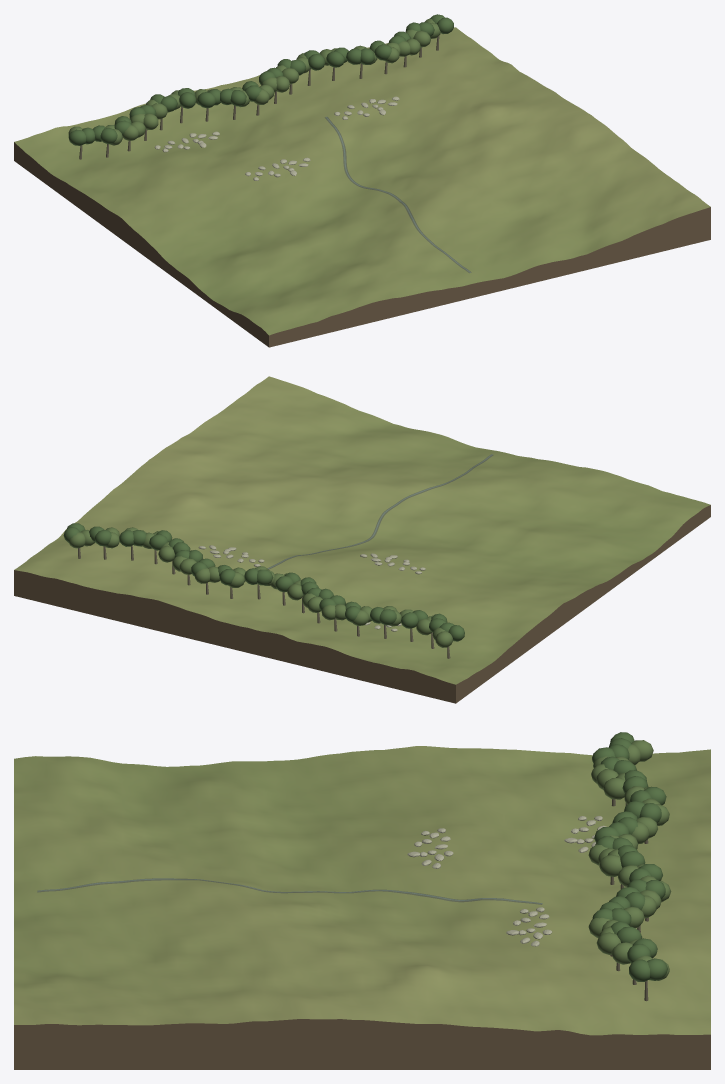
Rendered from gms-04.glb.
3 views of the same model, one above another, from view 1: azimuth 30°, elevation 25°; view 2: azimuth 150°, elevation 25°; view 3: azimuth 270°, elevation 25° (orthographic). The views are drawn at different scales.
Parts seen in each view (by area): view 1: GMS-04 - estudio del paisaje; view 2: GMS-04 - estudio del paisaje; view 3: GMS-04 - estudio del paisaje.
Part boxes in pixels (x1,y1,x2,y2): GMS-04 - estudio del paisaje: [14, 14, 710, 347]; GMS-04 - estudio del paisaje: [14, 376, 710, 703]; GMS-04 - estudio del paisaje: [14, 732, 710, 1069].
Bounding box in the file's own units: 12 × 1.65 × 12.
